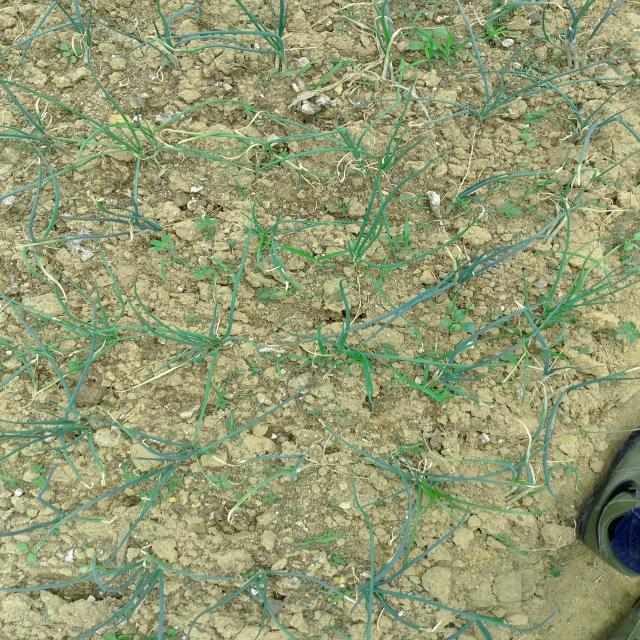Spring Onion: (341, 535, 442, 632), (284, 313, 379, 400), (163, 309, 263, 377), (377, 452, 485, 512), (338, 20, 425, 92), (402, 332, 478, 414), (89, 537, 166, 614), (244, 445, 338, 508), (106, 110, 196, 173), (487, 292, 588, 348), (205, 216, 298, 274), (355, 126, 418, 211), (530, 14, 631, 65), (152, 422, 234, 484), (243, 13, 304, 94), (21, 396, 90, 466), (15, 495, 98, 548), (210, 560, 301, 608), (416, 252, 492, 306), (322, 210, 404, 260), (43, 0, 107, 61), (0, 108, 51, 184), (74, 300, 136, 360), (0, 336, 66, 384), (451, 85, 519, 131), (555, 102, 623, 148), (446, 168, 510, 215), (134, 29, 199, 72), (103, 210, 165, 252), (446, 604, 515, 640), (594, 359, 640, 390)
